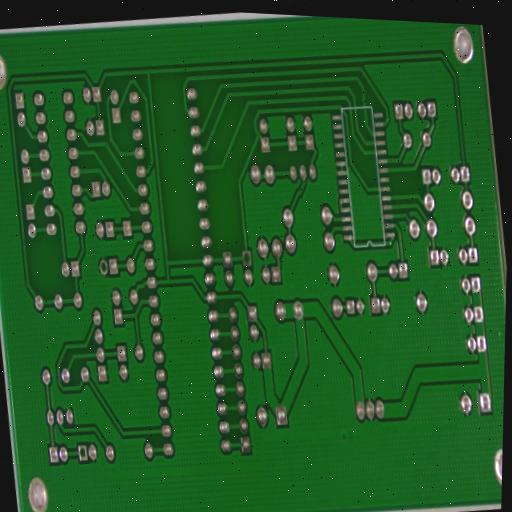missing_hole: (75, 441, 90, 465), (241, 249, 252, 267), (98, 258, 108, 277)
